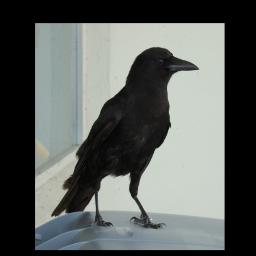Crow: (52, 46, 201, 231)
